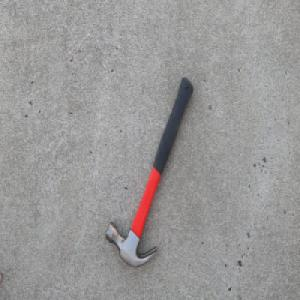Hammer: (103, 76, 194, 272)
